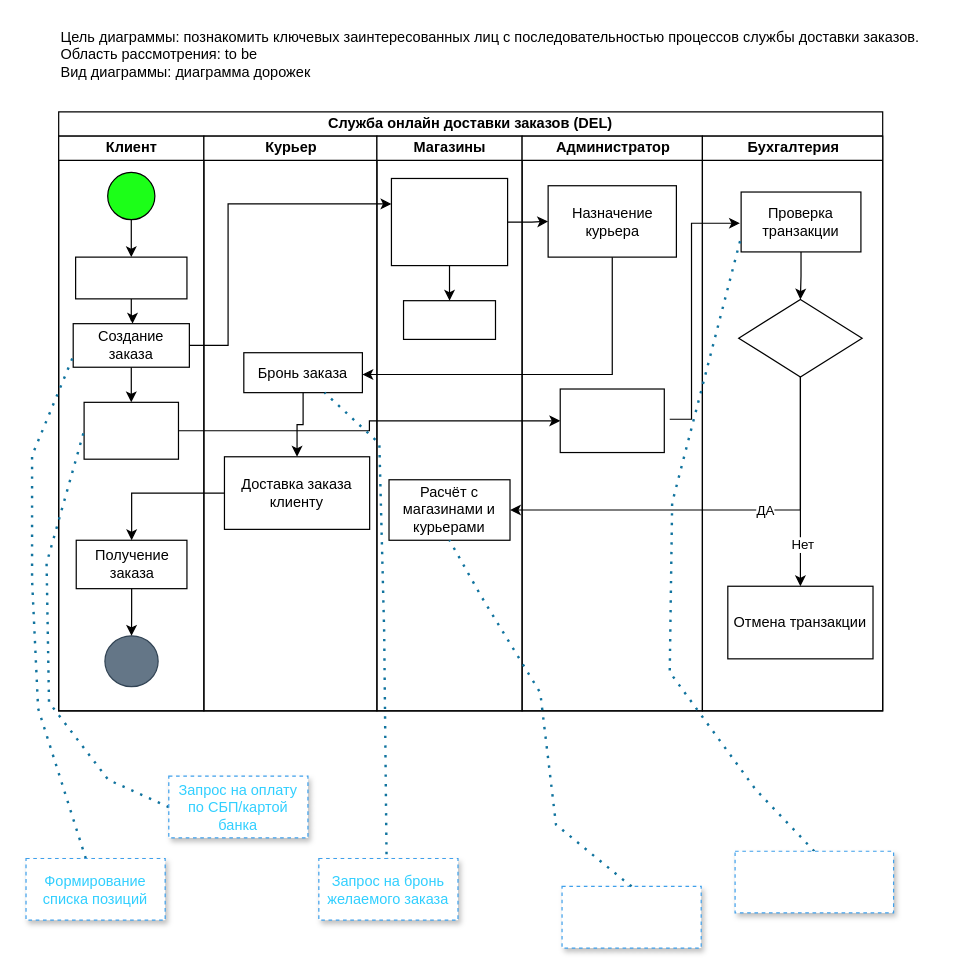
The diagram is 960 pixels wide and 978 high, and some of its shapes have lost their labels. Each missing label, with the centre of its shape:
Валидация сведений об оплате: (x=815, y=883)
Оплата заказа: (x=130, y=430)
Оплата прошла?: (x=799, y=337)
Получение данных об оплате: (x=611, y=420)
Просмотр товаров: (x=130, y=277)
Сборка заказа: (x=448, y=319)
Формирование заказа для сборки и доставки: (x=449, y=221)
Формирование электронного чека об оплате: (x=632, y=918)
